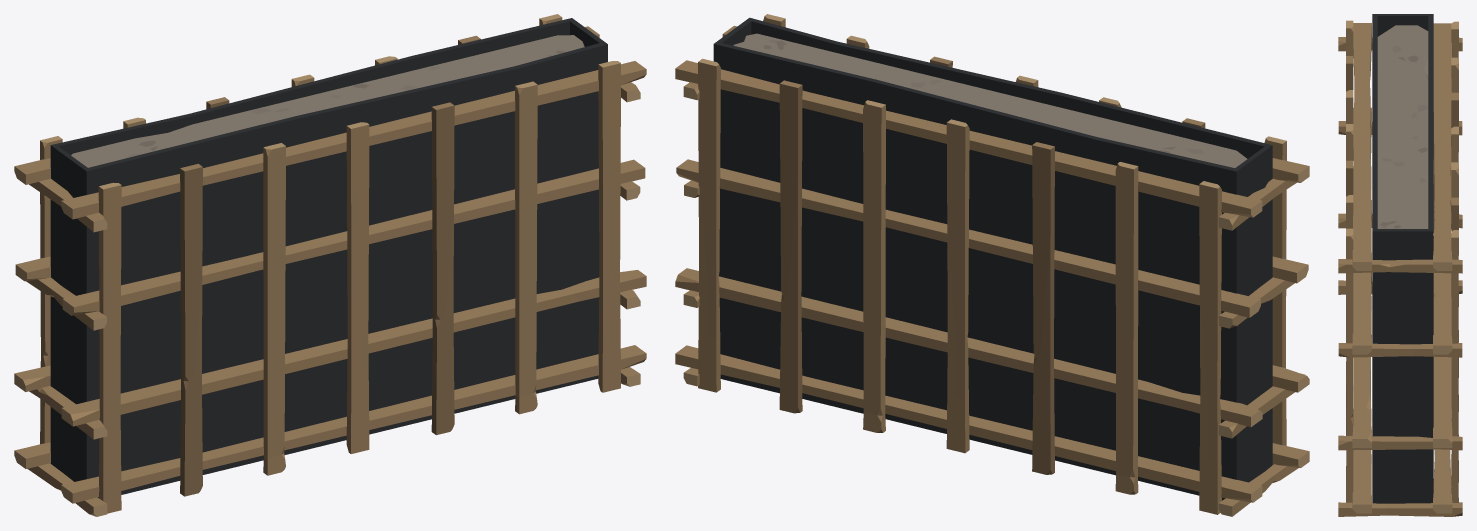
The model's file is SM_Bld_ConcreteFrame_Wall_02.glb.
3 renders of one model, left to right at view 1: azimuth 30°, elevation 25°; view 2: azimuth 150°, elevation 25°; view 3: azimuth 270°, elevation 25°, orthographic. The views are drawn at different scales.
Parts seen in each view (by area): view 1: SM_Bld_ConcreteFrame_Wall_02; view 2: SM_Bld_ConcreteFrame_Wall_02; view 3: SM_Bld_ConcreteFrame_Wall_02.
Part boxes in pixels (left/top/right/bottom): SM_Bld_ConcreteFrame_Wall_02: left=14, top=14, right=646, bottom=516; SM_Bld_ConcreteFrame_Wall_02: left=675, top=14, right=1309, bottom=516; SM_Bld_ConcreteFrame_Wall_02: left=1338, top=14, right=1462, bottom=516.
Size of the model in its own units: 5.61 by 3.13 by 1.23.
Materials: 1 (1 with a texture image).
